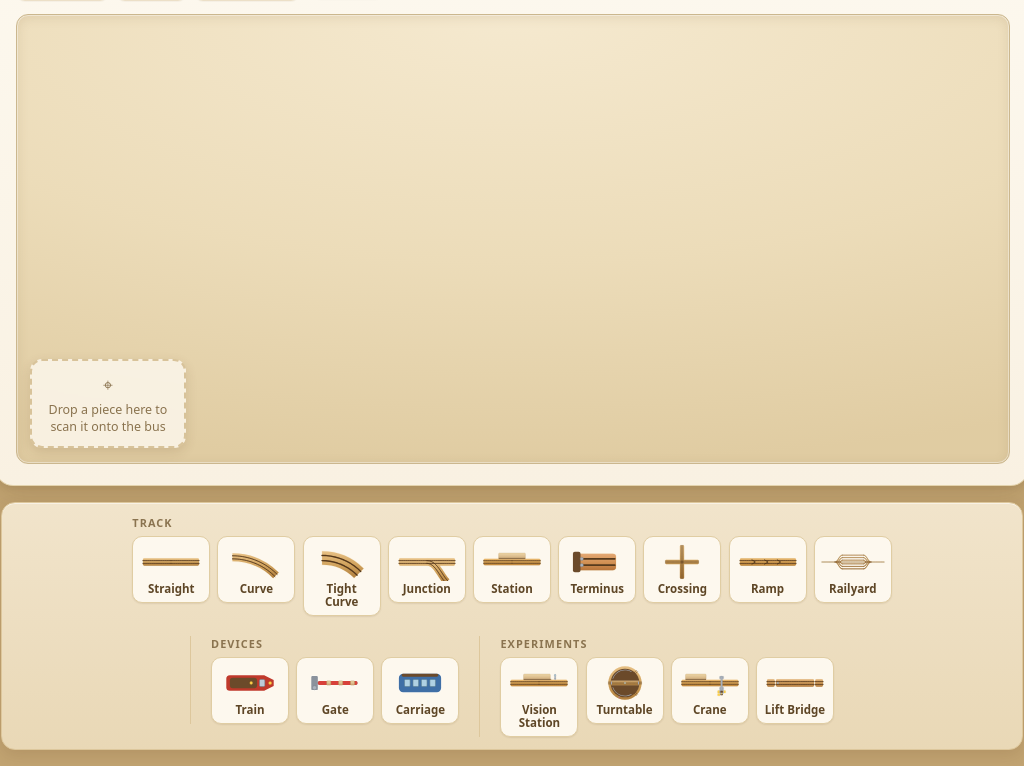
Test: ToyTable — palette and placement › fans out the livery options when the train tool is armed
The width and height of the screenshot is (1024, 766).
(page scrolled)
Click the button with test id "toybox-train": (250,690) [211,657,289,724]
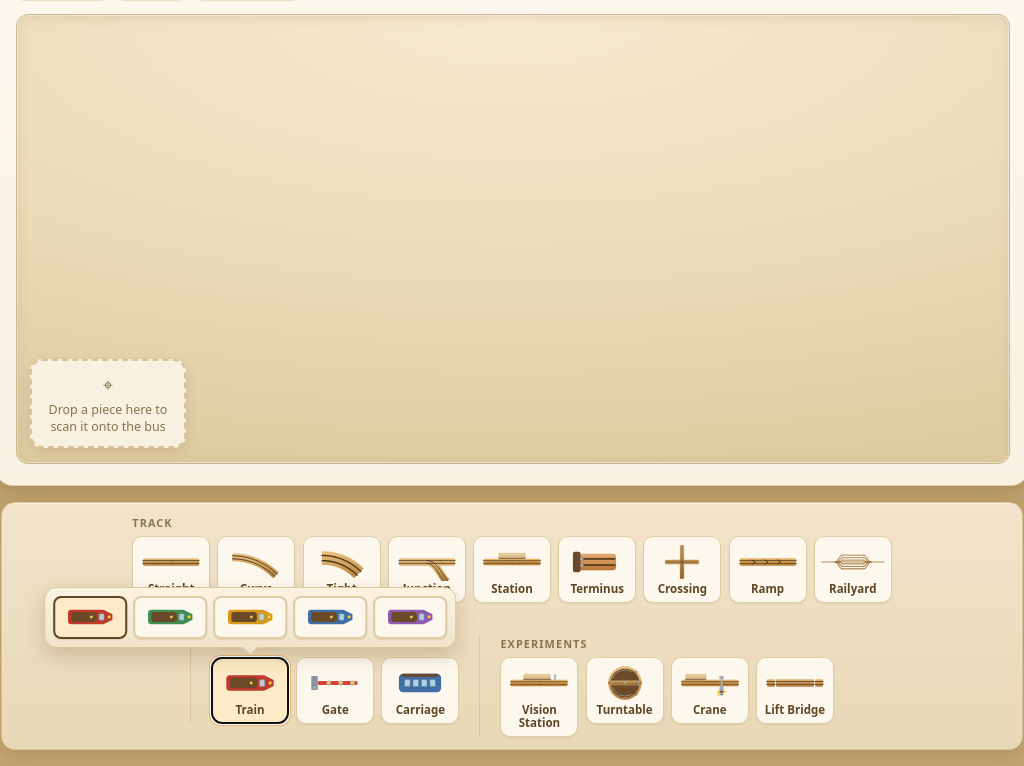
Expected: the button with test id "toybox-train-color-green" is shown, [133,596,207,639]
